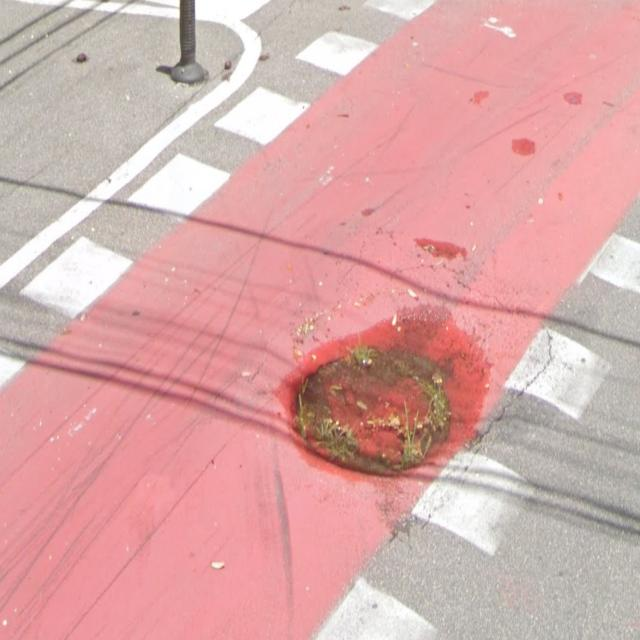Bueiro: (272, 301, 480, 495)
